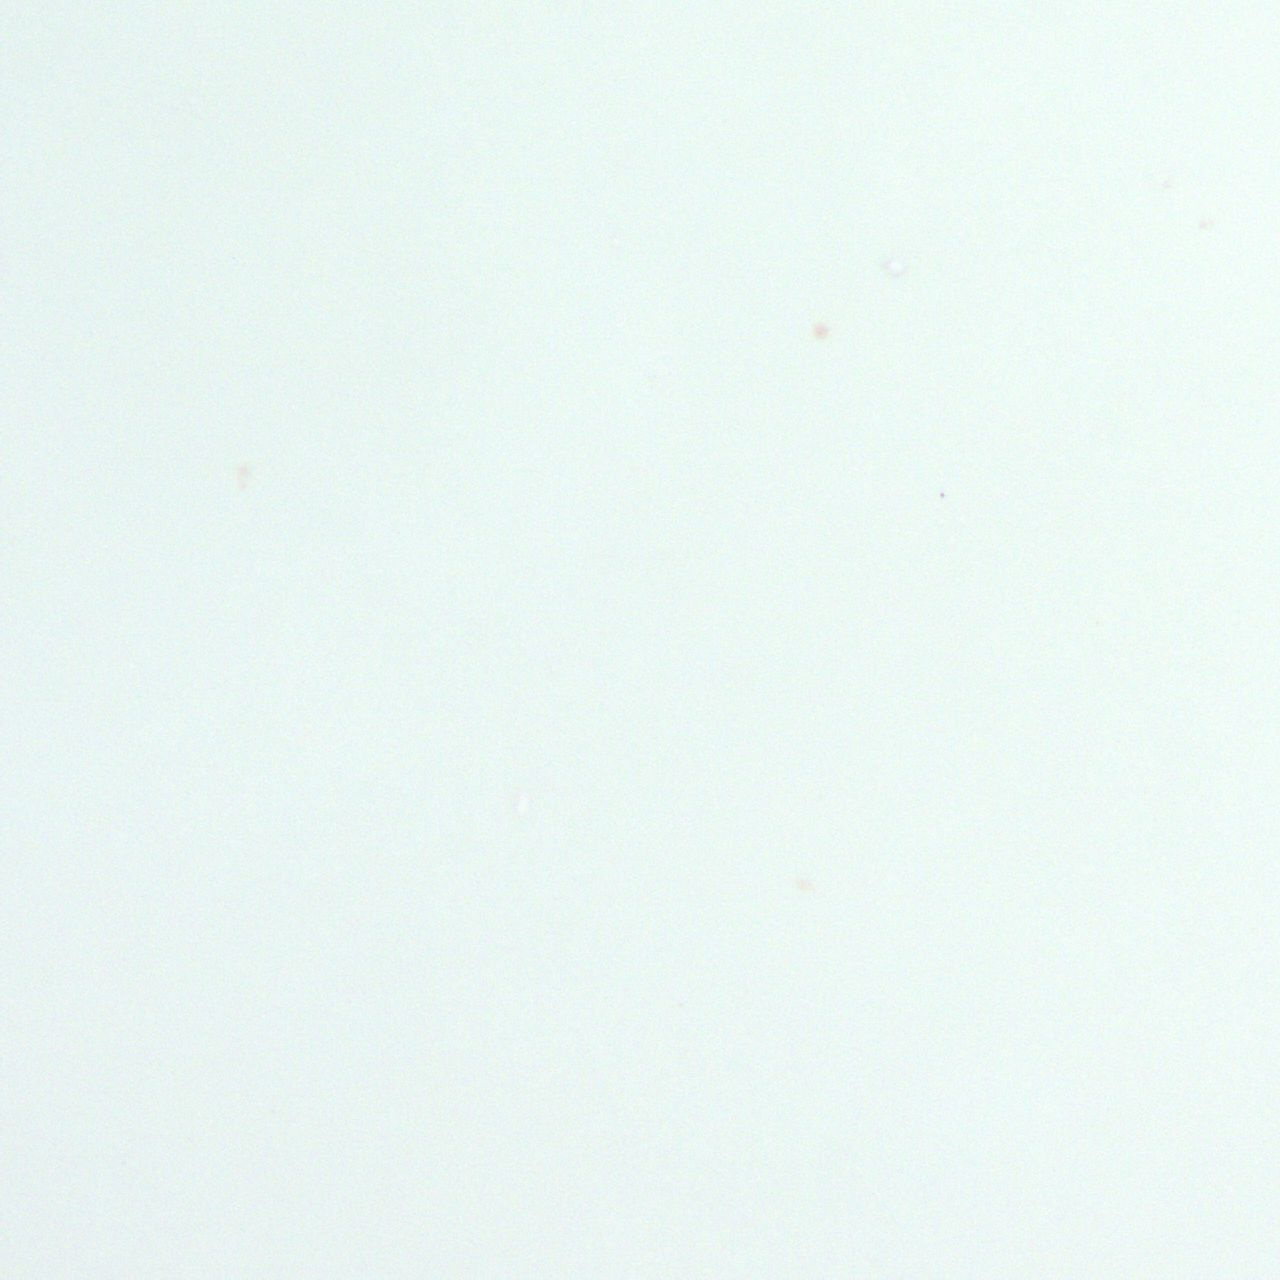dust: (937, 488, 946, 501)
